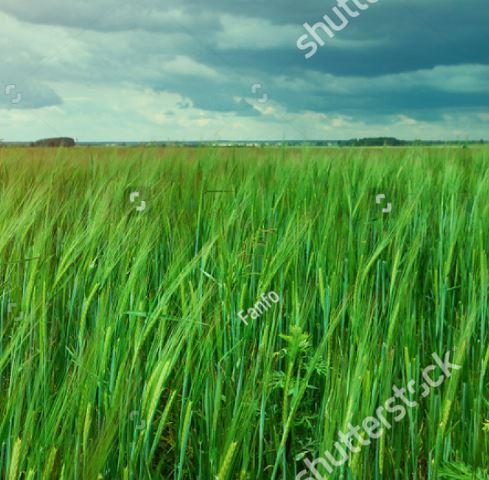Wheat: (93, 203, 343, 444)
